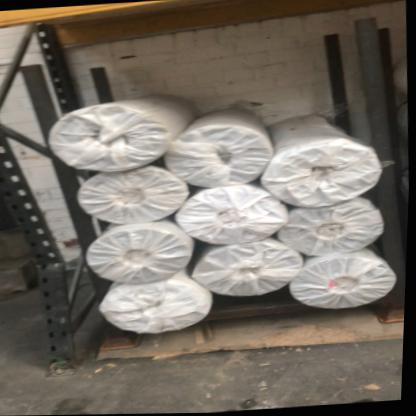vertical_damage: (10, 207, 75, 304)
